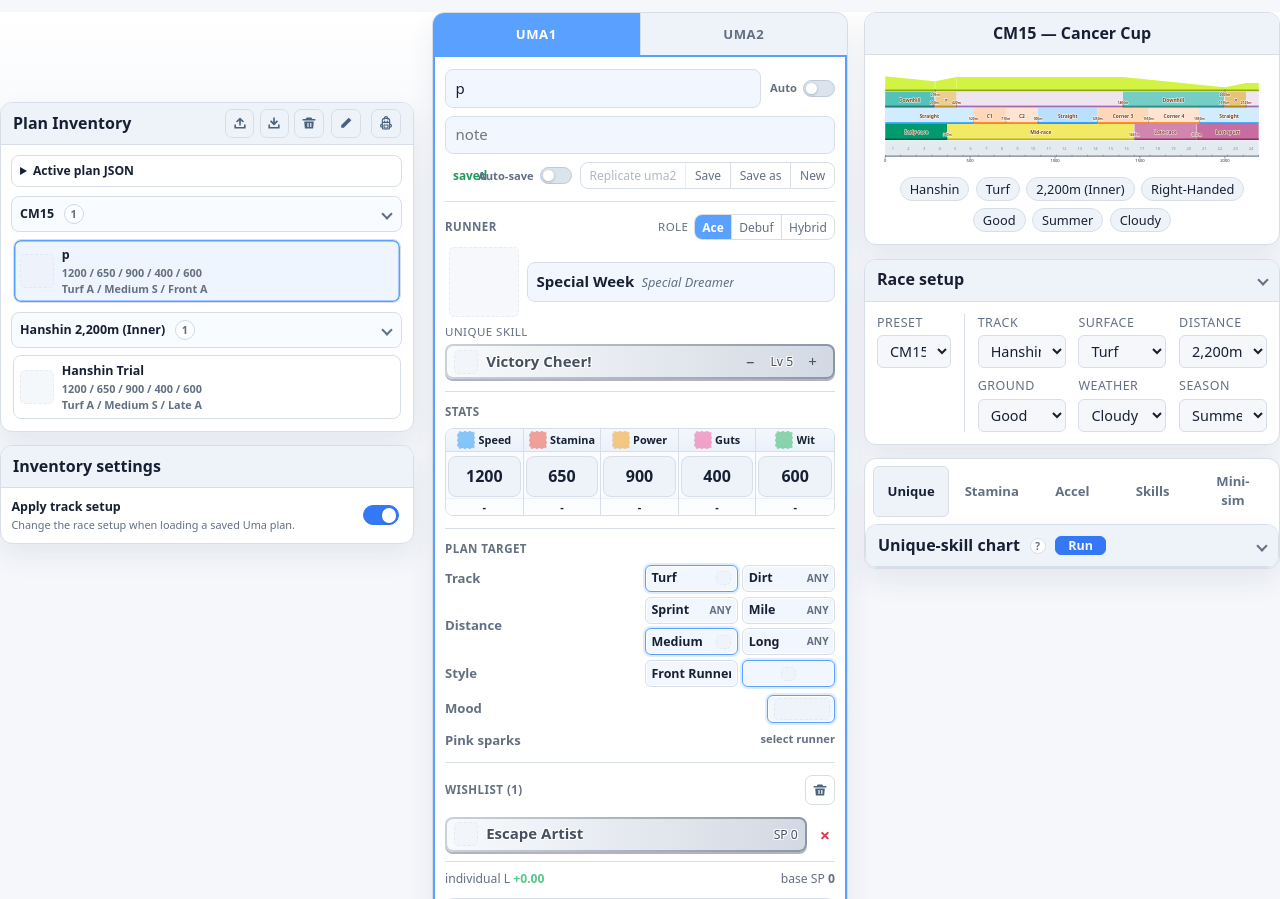
Test: CmPlannerPage › shows saved plans grouped under the plan inventory card
The width and height of the screenshot is (1280, 899).
Expected: the element labelled "Plan Inventory" is shown, [0, 102, 416, 544]
Expected: the button "CM15 1" is shown, [20, 198, 367, 229]
Step 1. Click the button named "Edit inventory" → [346, 123], box [331, 108, 361, 138]
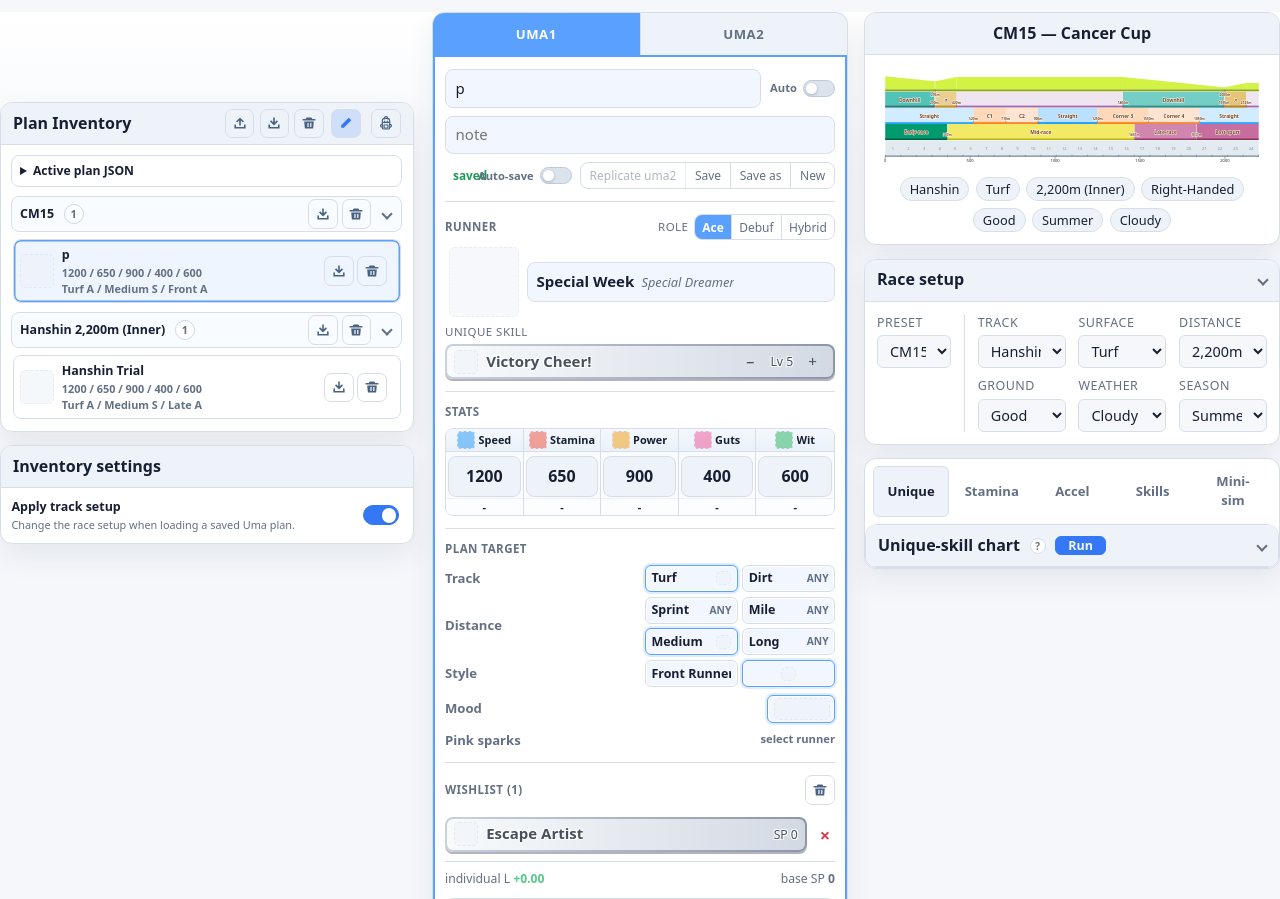
Expected: the button "Hanshin 2,200m (Inner) 1" is shown, [20, 314, 304, 346]
Expected: the number of buttons named "Delete plan" is 2, [357, 256, 387, 286]; [357, 372, 387, 402]
